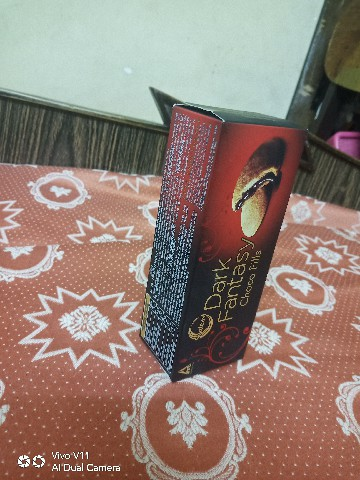darkfantasy big: (138, 97, 316, 391)
